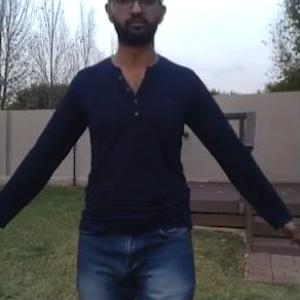land: (6, 3, 280, 299)
